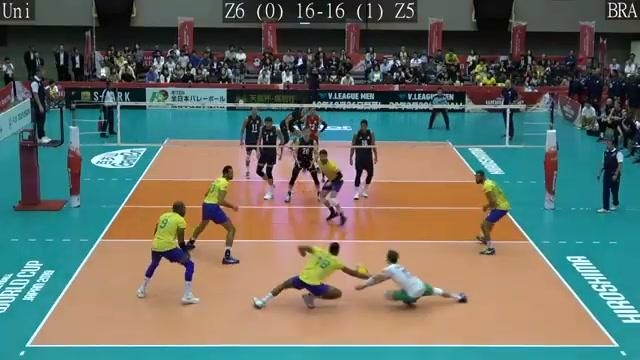ball: (355, 264, 368, 276)
